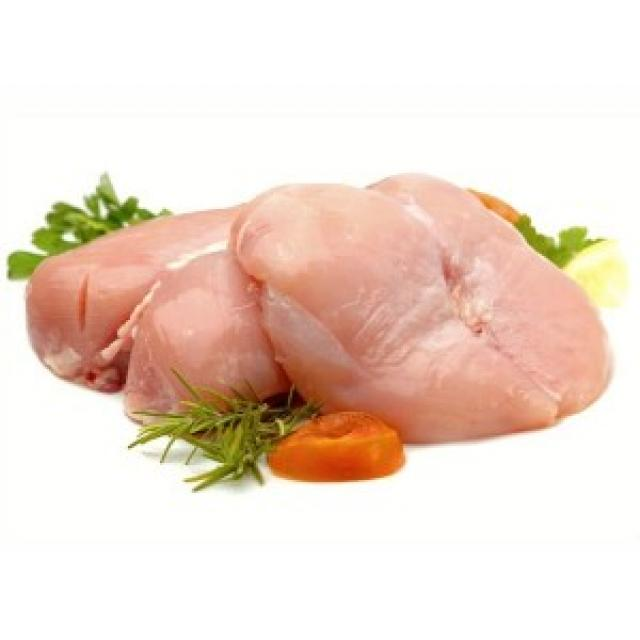chicken: (29, 176, 610, 440), (243, 179, 607, 428), (31, 209, 284, 401)
